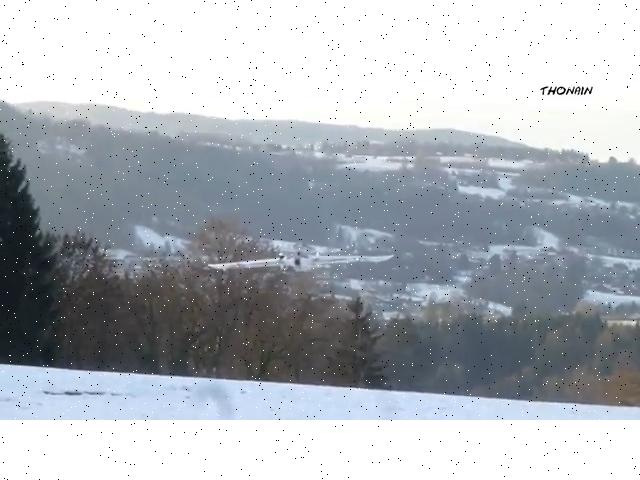Anti-Drone: (208, 253, 394, 269)
